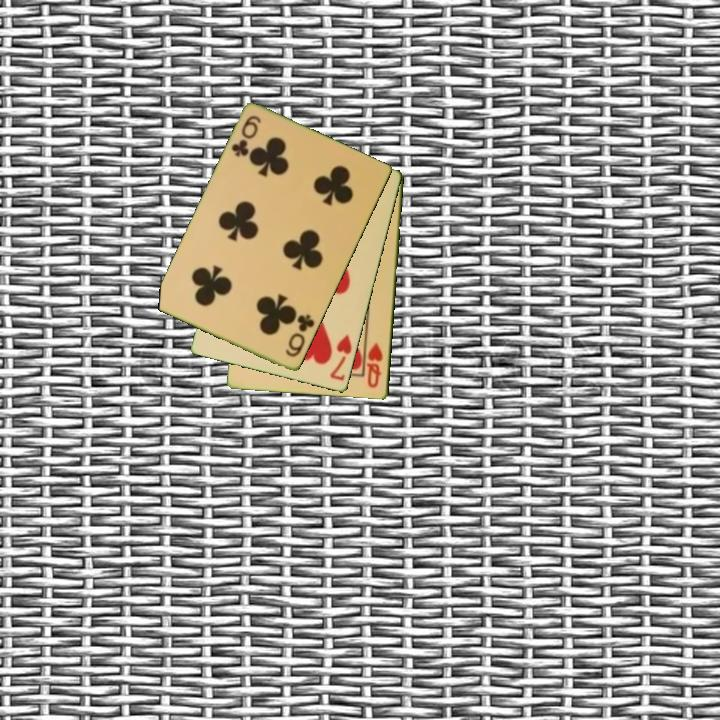6c: (282, 311, 318, 360), (228, 112, 264, 160)
7h: (326, 331, 355, 384)
Qh: (363, 340, 386, 391)
